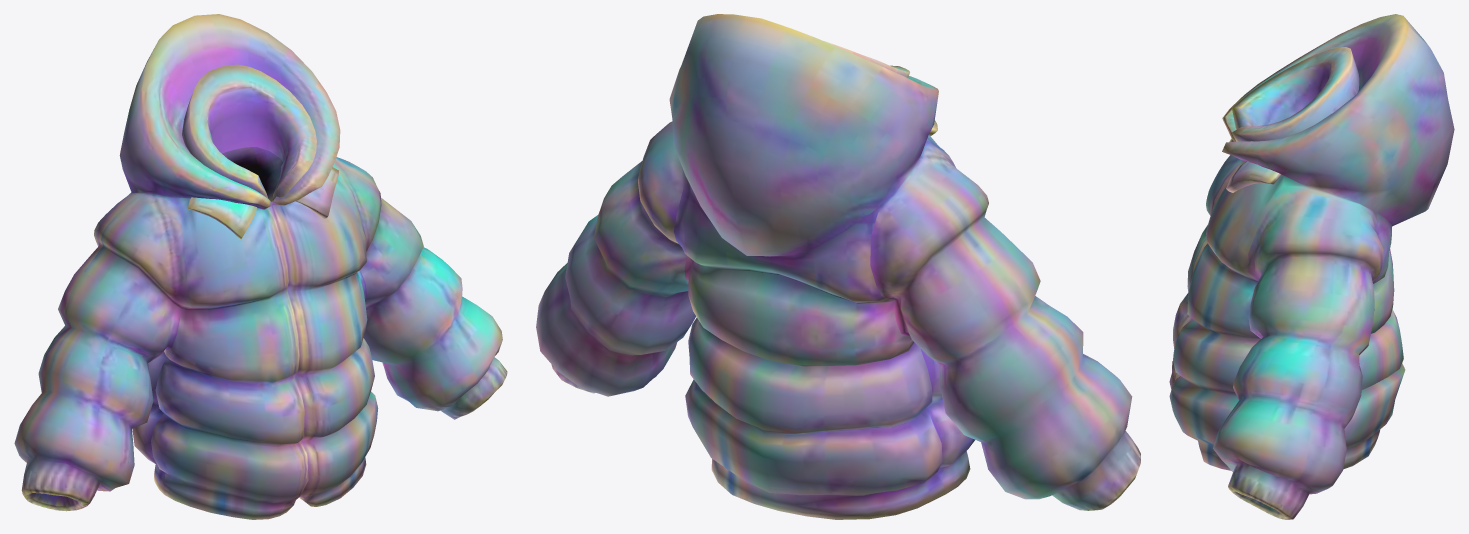
Rendered from body4.glb.
3 renders of one model, left to right at view 1: azimuth 30°, elevation 25°; view 2: azimuth 150°, elevation 25°; view 3: azimuth 270°, elevation 25°, orthographic. The views are drawn at different scales.
Visible parts, largest first — view 1: Wolf3D_Outfit_Top; view 2: Wolf3D_Outfit_Top; view 3: Wolf3D_Outfit_Top.
Part boxes in pixels (left/top/right/bottom): Wolf3D_Outfit_Top: left=14, top=14, right=507, bottom=519; Wolf3D_Outfit_Top: left=536, top=14, right=1140, bottom=519; Wolf3D_Outfit_Top: left=1169, top=14, right=1454, bottom=519.
Bounding box in the file's own units: 1.03 × 0.8658 × 0.5337.
Materials: 1 (1 with a texture image).
